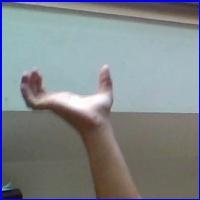space: (14, 61, 124, 127)
